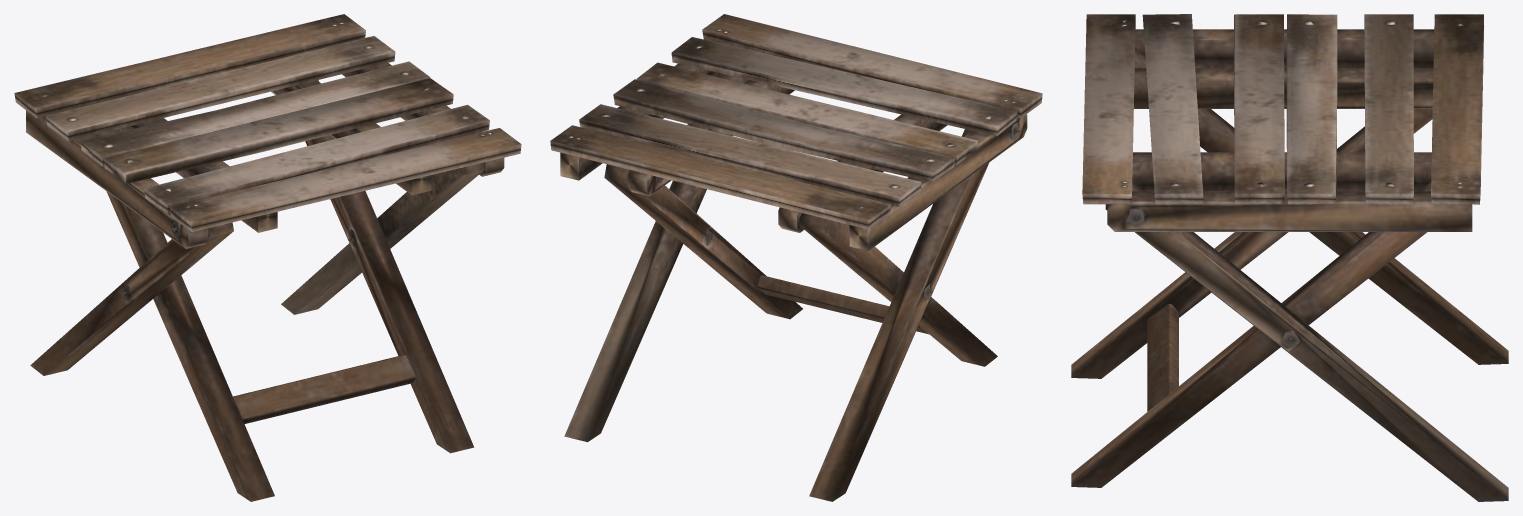
Rendered from folding_stool.glb.
3 views of the same model, side by side, from view 1: azimuth 30°, elevation 25°; view 2: azimuth 150°, elevation 25°; view 3: azimuth 270°, elevation 25° (orthographic). The views are drawn at different scales.
Parts seen in each view (by area): view 1: folding_wooden_stool; view 2: folding_wooden_stool; view 3: folding_wooden_stool.
Boxes of the visible parts, bbox=[...] form: folding_wooden_stool: bbox=[14, 14, 521, 501]; folding_wooden_stool: bbox=[550, 14, 1042, 501]; folding_wooden_stool: bbox=[1071, 14, 1508, 501].
Bounding box in the file's own units: 0.5264 × 0.4401 × 0.5401.
Materials: 1 (1 with a texture image).
